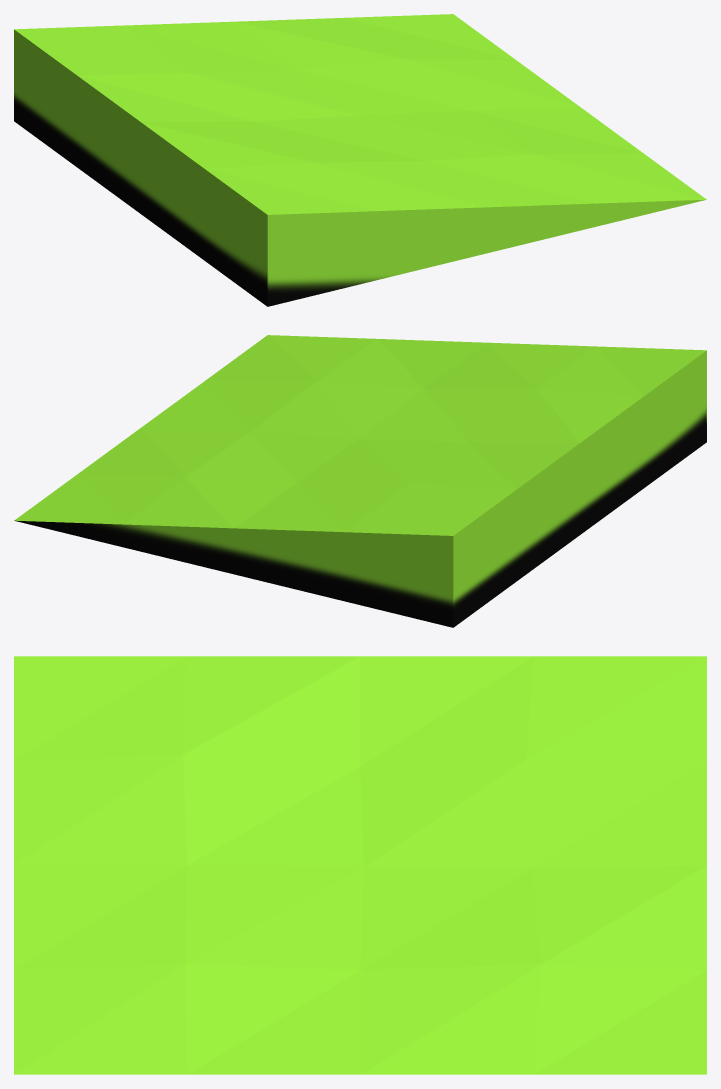
The model's file is tile_ramp.fbx.
3 views of the same model, one above another, from view 1: azimuth 30°, elevation 25°; view 2: azimuth 150°, elevation 25°; view 3: azimuth 270°, elevation 25° (orthographic). The views are drawn at different scales.
Parts seen in each view (by area): view 1: Cube; view 2: Cube; view 3: Cube.
Boxes of the visible parts, x1,y1,x2,y2 form: Cube: (14,14,706,306); Cube: (14,335,706,627); Cube: (14,656,706,1074).
Size of the model in its own units: 1000 by 200 by 1000.
1 material, 1 textured.
